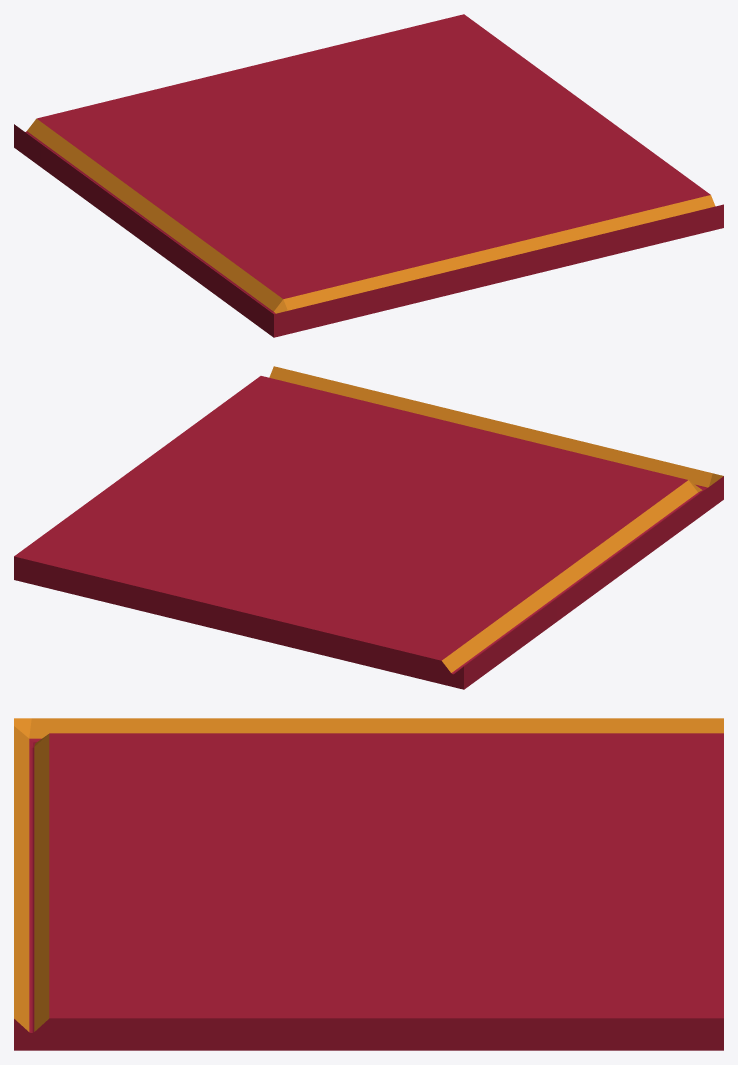
The model's file is Corner_Rug.fbx.
3 views of the same model, one above another, from view 1: azimuth 30°, elevation 25°; view 2: azimuth 150°, elevation 25°; view 3: azimuth 270°, elevation 25° (orthographic). The views are drawn at different scales.
Visible parts, largest first — view 1: Corner_Rug; view 2: Corner_Rug; view 3: Corner_Rug.
Part boxes in pixels (box(x1,y1,x2,y2)): Corner_Rug: box(14, 14, 723, 337); Corner_Rug: box(14, 366, 723, 689); Corner_Rug: box(14, 718, 723, 1050).
Bounding box in the file's own units: 200 × 10 × 200.
Materials: 1 (1 with a texture image).
